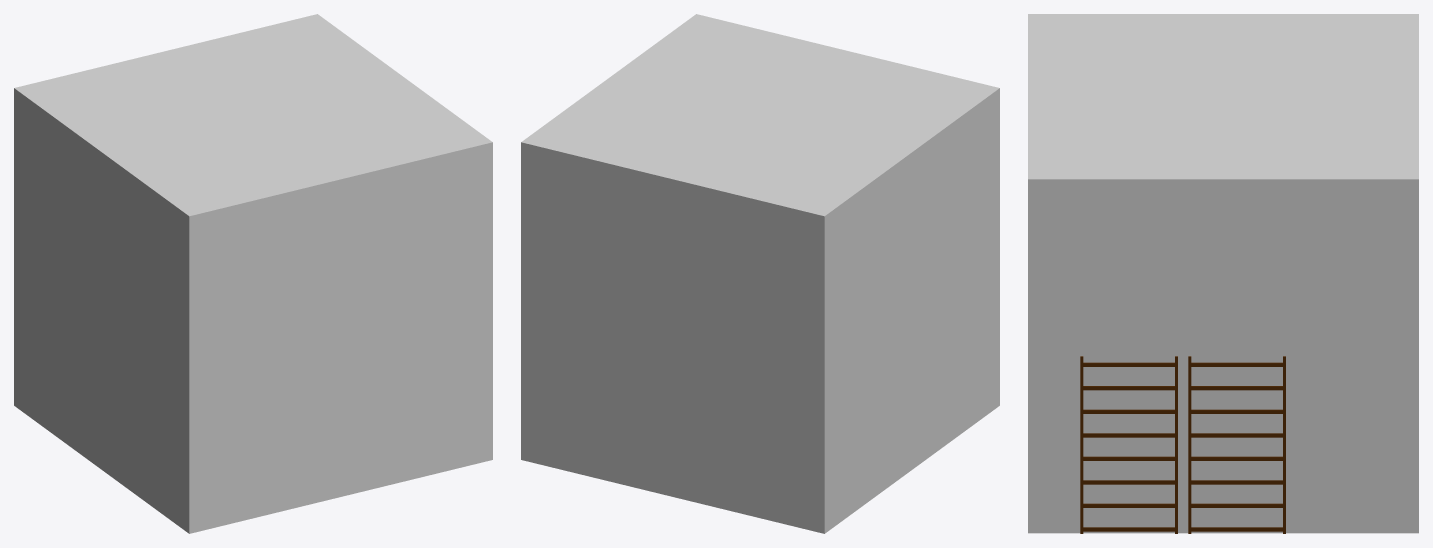
File: Interior.4.fbx
3 renders of one model, left to right at view 1: azimuth 30°, elevation 25°; view 2: azimuth 150°, elevation 25°; view 3: azimuth 270°, elevation 25°, orthographic. The views are drawn at different scales.
Visible parts, largest first — view 1: Room; view 2: Room; view 3: Room, Shelves1, Shelves1.001.
Part boxes in pixels (box(x1,y1,x2,y2)): Room: box(14, 14, 492, 533); Room: box(521, 14, 999, 533); Room: box(1028, 14, 1418, 533); Shelves1: box(1080, 356, 1177, 533); Shelves1.001: box(1188, 356, 1285, 533).
Size of the model in its own units: 4.01 by 4.01 by 4.
